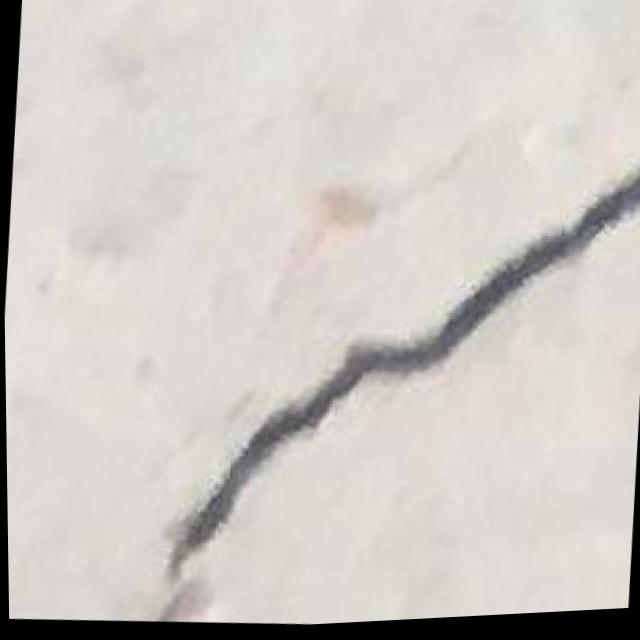Crack: (143, 137, 640, 634)
